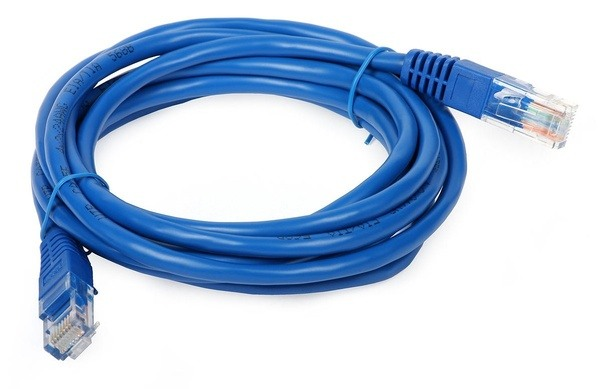Nonrec_Tangler: (15, 10, 588, 364)
